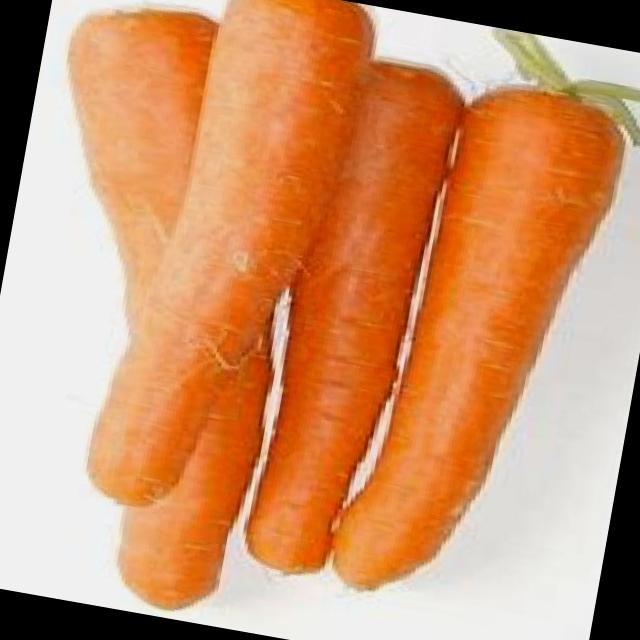carrot: (83, 0, 383, 502), (337, 91, 627, 589), (240, 60, 462, 567)
